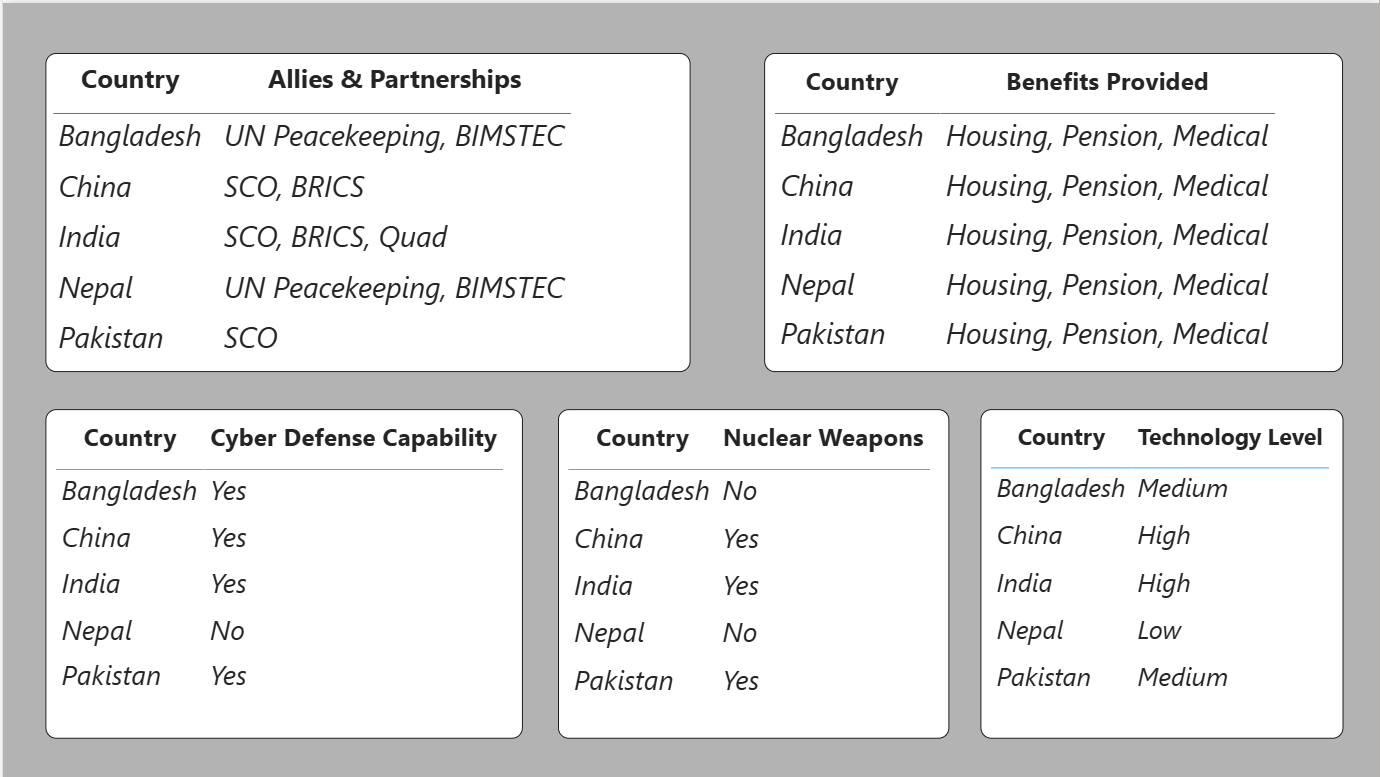

What the dashboard file says about the page in this screenshot:
{"tool":"powerbi","page":{"name":"REPORT - 3","canvas":[1280,720],"ordinal":2},"visuals":[{"type":"tableEx","title":"Paramilitary Forces by Country","fields":{"Values":["Armed_Forces_Dataset.Country","Armed_Forces_Dataset.Allies & Partnerships"]},"box":[39.5,46.5,600,296.5],"z":0},{"type":"tableEx","title":"Defense Budget (Billion) by Country","fields":{"Values":["Armed_Forces_Dataset.Country","Armed_Forces_Dataset.Benefits Provided"]},"box":[708.1,46.5,538.4,296.5],"z":1000},{"type":"tableEx","title":"Reserve Soldiers by Country","fields":{"Values":["Armed_Forces_Dataset.Country","Armed_Forces_Dataset.Cyber Defense Capability"]},"box":[40,377.5,443.8,306.2],"z":2000},{"type":"tableEx","title":"Avg Soldier Salary ($/month) by Country","fields":{"Values":["Armed_Forces_Dataset.Country","Armed_Forces_Dataset.Nuclear Weapons"]},"box":[516.2,377.5,363.8,306.2],"z":3000},{"type":"tableEx","fields":{"Values":["Armed_Forces_Dataset.Country","Armed_Forces_Dataset.Technology Level"]},"box":[908.8,377.5,337.5,306.2],"z":4000}]}

Visuals, with their boxes in screenshot pixels (x1, y1, x2, y2), scaled from the page's 1280x720 canvas onto the 1380x777 screenshot:
"Paramilitary Forces by Country" tableEx: rect(43, 50, 689, 370)
"Defense Budget (Billion) by Country" tableEx: rect(763, 50, 1344, 370)
"Reserve Soldiers by Country" tableEx: rect(43, 407, 522, 738)
"Avg Soldier Salary ($/month) by Country" tableEx: rect(557, 407, 949, 738)
tableEx - Armed_Forces_Dataset.Country x Armed_Forces_Dataset.Technology Level: rect(980, 407, 1344, 738)
